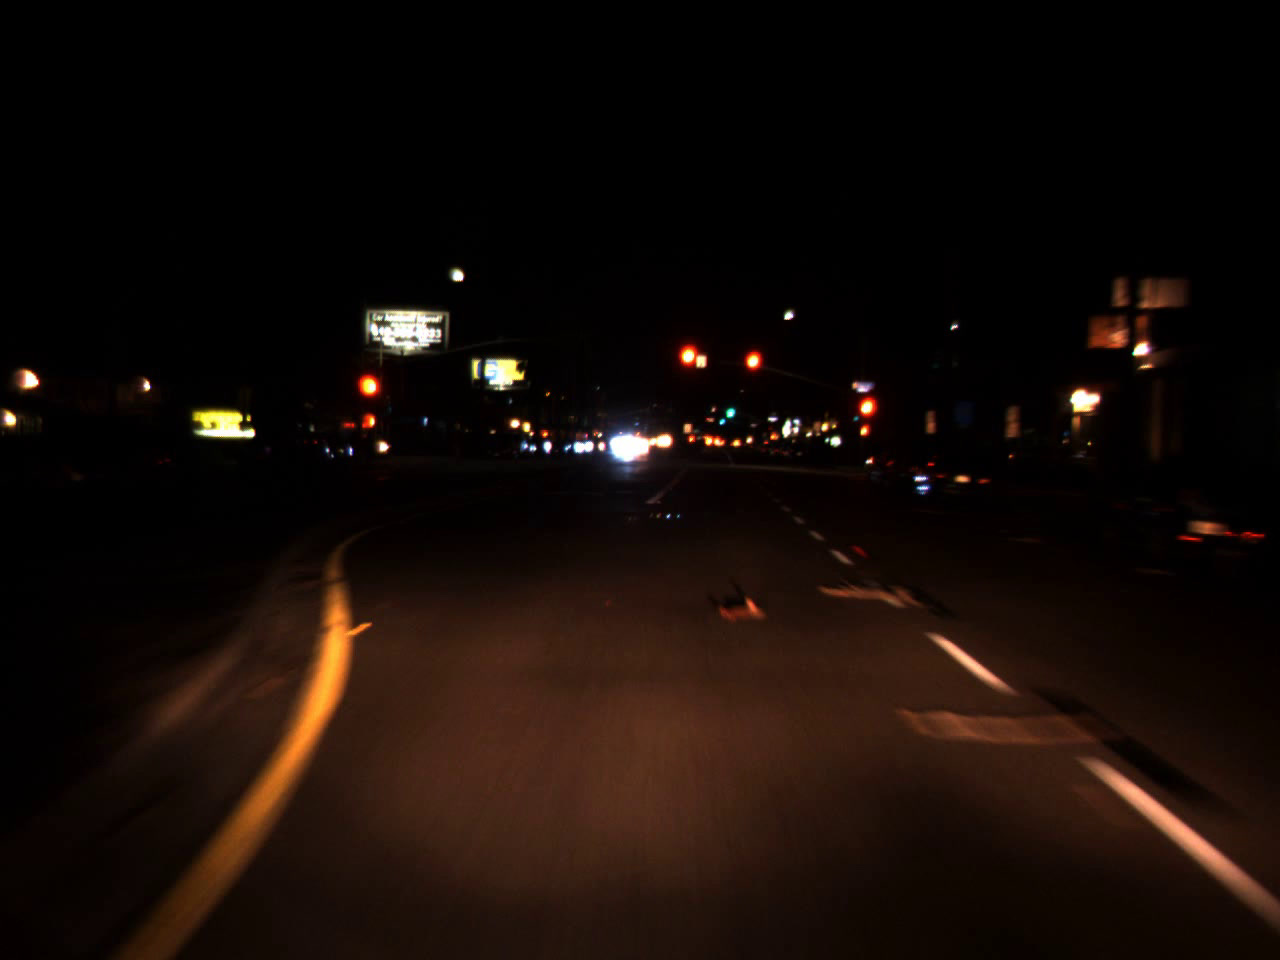go: (725, 397, 735, 421), (718, 414, 725, 426)
stop: (355, 371, 383, 425), (675, 341, 705, 392), (856, 393, 880, 441), (742, 347, 764, 395)
